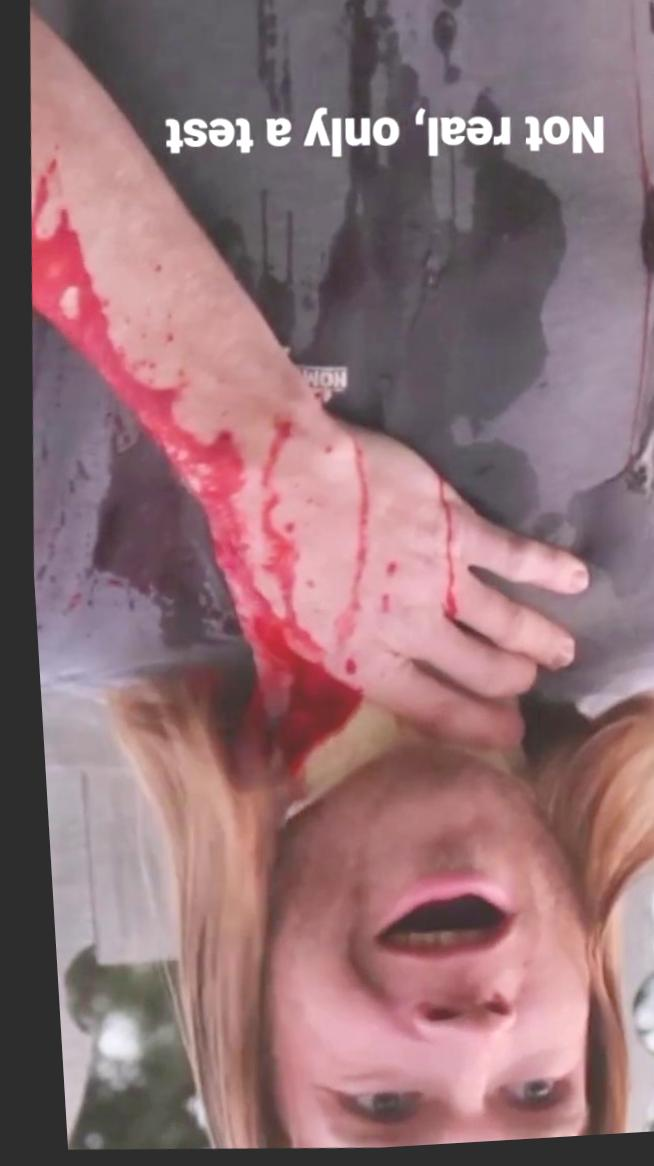Fire: (28, 148, 447, 776)
